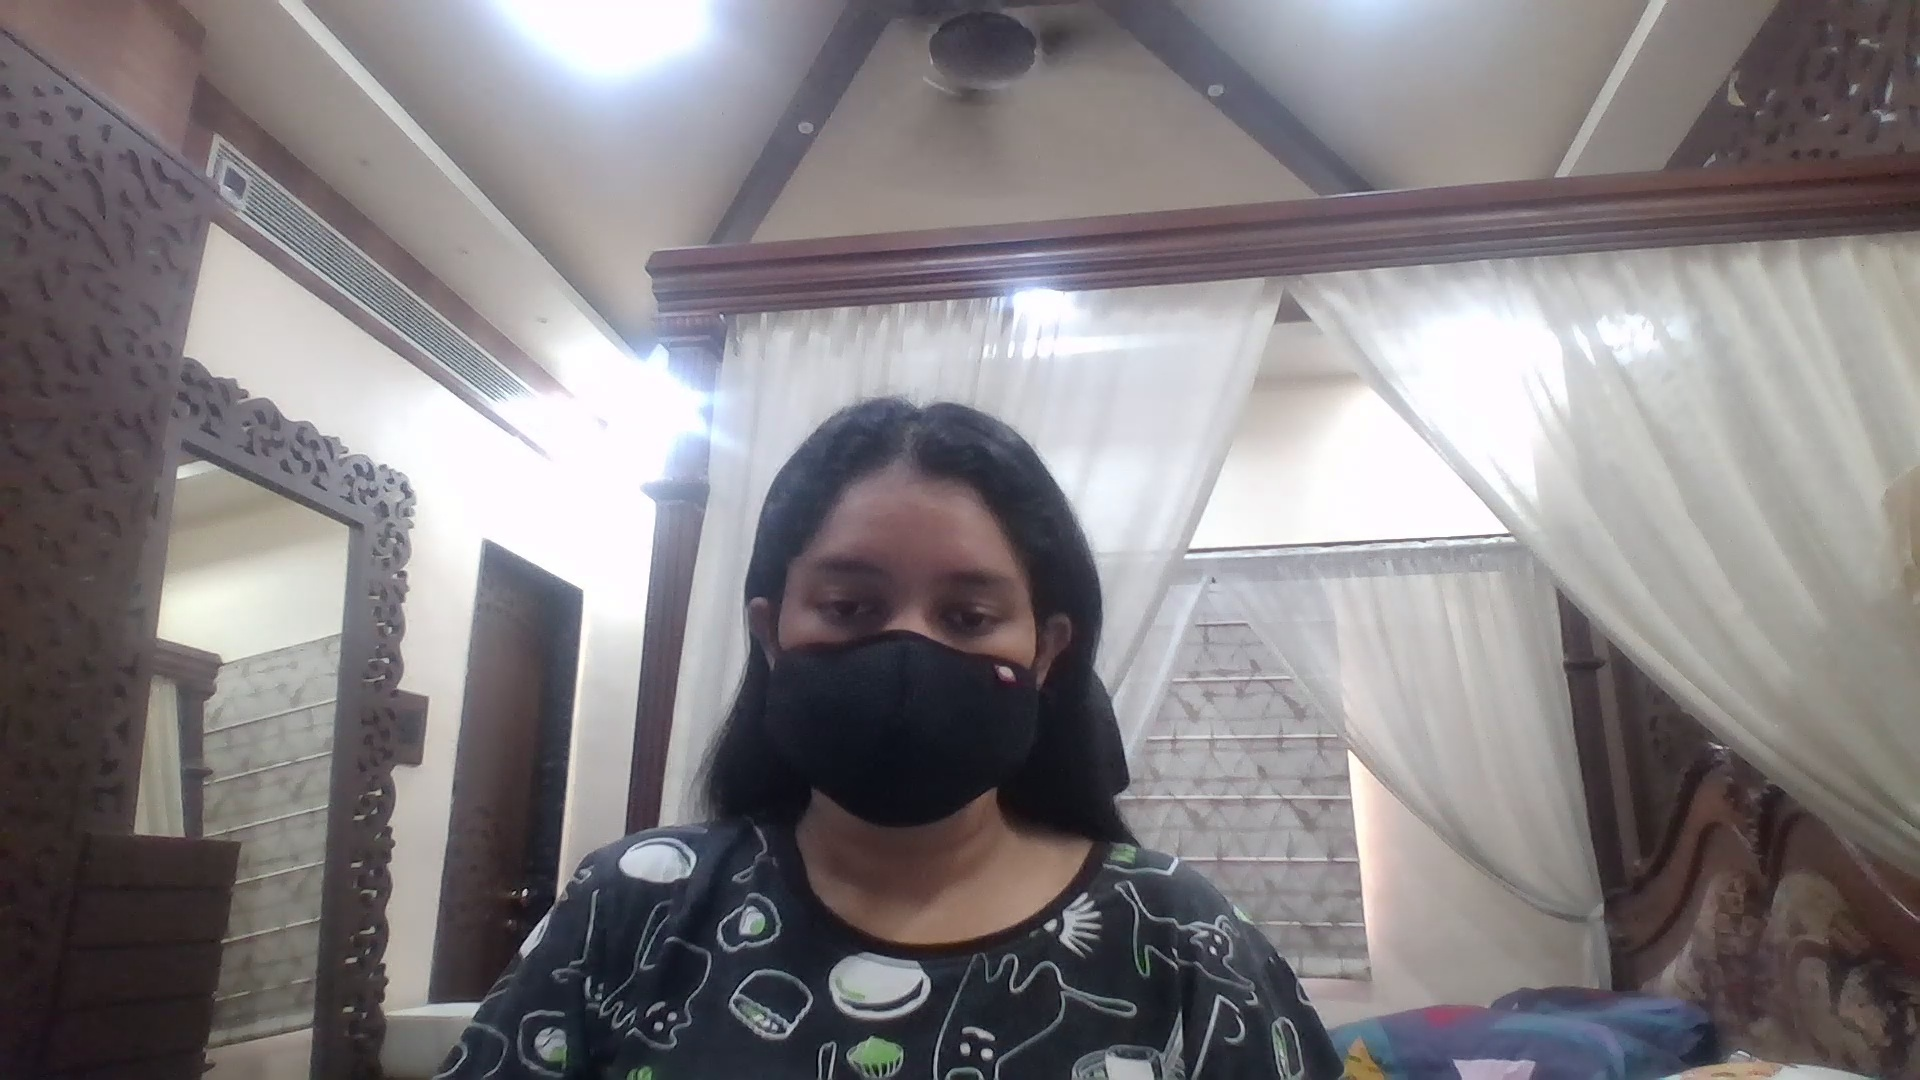Mask: (768, 648, 1042, 833)
